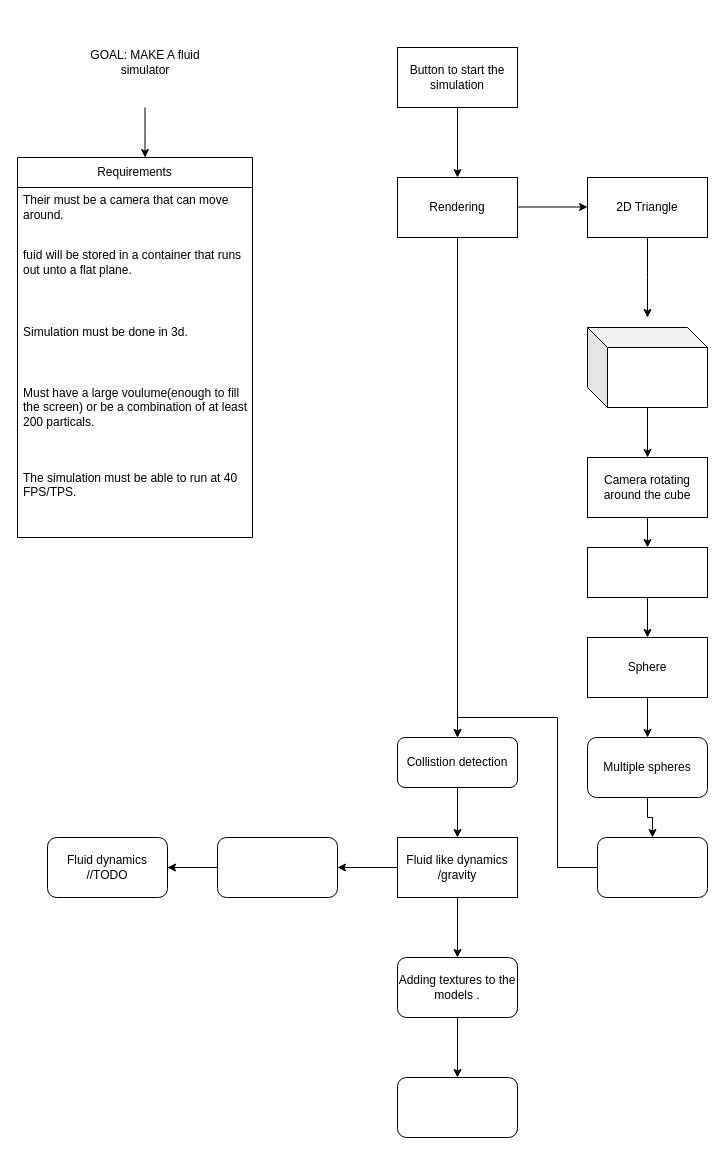
Image size: 725x1155. Some labels were removed from this diagram. Each missing label, with the centre of its shape:
"3D Cube" belongs at pixel 647 367.
"Camera able to rotate and move in space" belongs at pixel 647 572.
"Complete product" belongs at pixel 457 1107.
"Container" belongs at pixel 652 867.
"Gravity" belongs at pixel 277 867.
